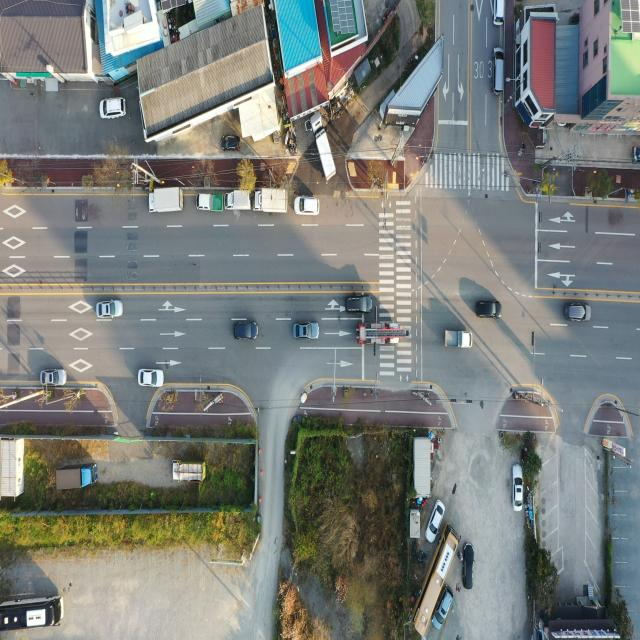car: (434, 586, 453, 628), (426, 502, 444, 545), (343, 296, 378, 318), (491, 46, 505, 97), (99, 97, 127, 120), (461, 539, 473, 587), (296, 196, 321, 217), (96, 302, 123, 321), (490, 0, 505, 34), (219, 132, 242, 154), (234, 320, 258, 341), (565, 304, 590, 324), (294, 322, 320, 341), (478, 301, 502, 321), (514, 466, 524, 513), (42, 370, 68, 388), (138, 368, 162, 387)
large_bus: (412, 520, 460, 638), (0, 594, 63, 638)
medium_truck: (312, 114, 339, 183), (54, 461, 99, 495), (354, 322, 405, 348), (148, 185, 186, 215), (251, 187, 290, 213)
small_truck: (172, 462, 206, 488), (442, 328, 474, 351), (225, 190, 252, 214), (197, 190, 225, 212)
